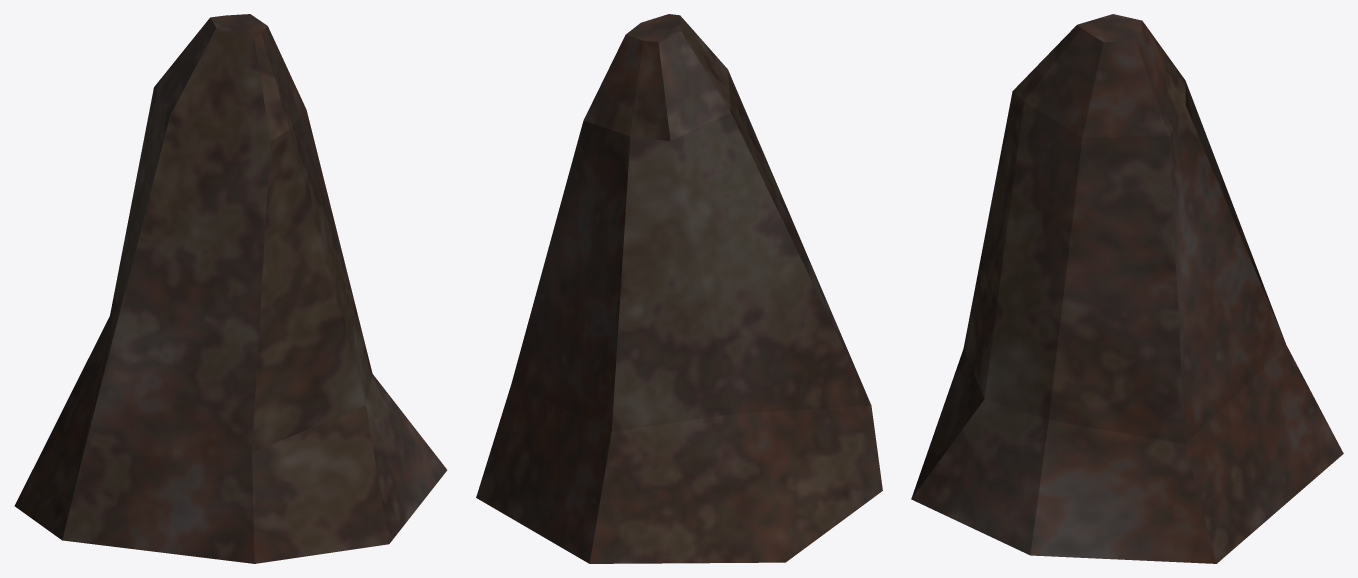
The model's file is rock1.glb.
The picture shows the model from 3 angles, left to right: view 1: azimuth 30°, elevation 25°; view 2: azimuth 150°, elevation 25°; view 3: azimuth 270°, elevation 25°; orthographic projection. The views are drawn at different scales.
Parts seen in each view (by area): view 1: Cylinder; view 2: Cylinder; view 3: Cylinder.
Part boxes in pixels (x1,y1,x2,y2): Cylinder: [14, 14, 447, 563]; Cylinder: [476, 14, 882, 563]; Cylinder: [911, 14, 1343, 563].
Bounding box in the file's own units: 3.61 × 4.48 × 3.71.
Materials: 1 (1 with a texture image).
